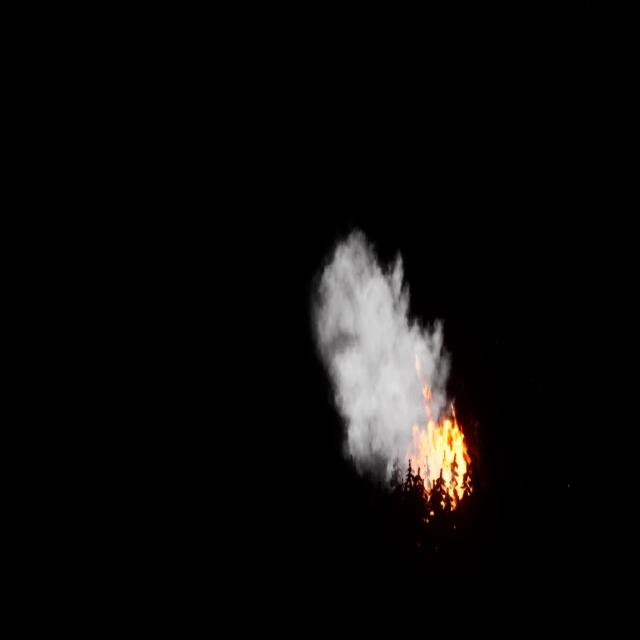fire: (402, 378, 473, 510)
smoke: (316, 227, 450, 478)
